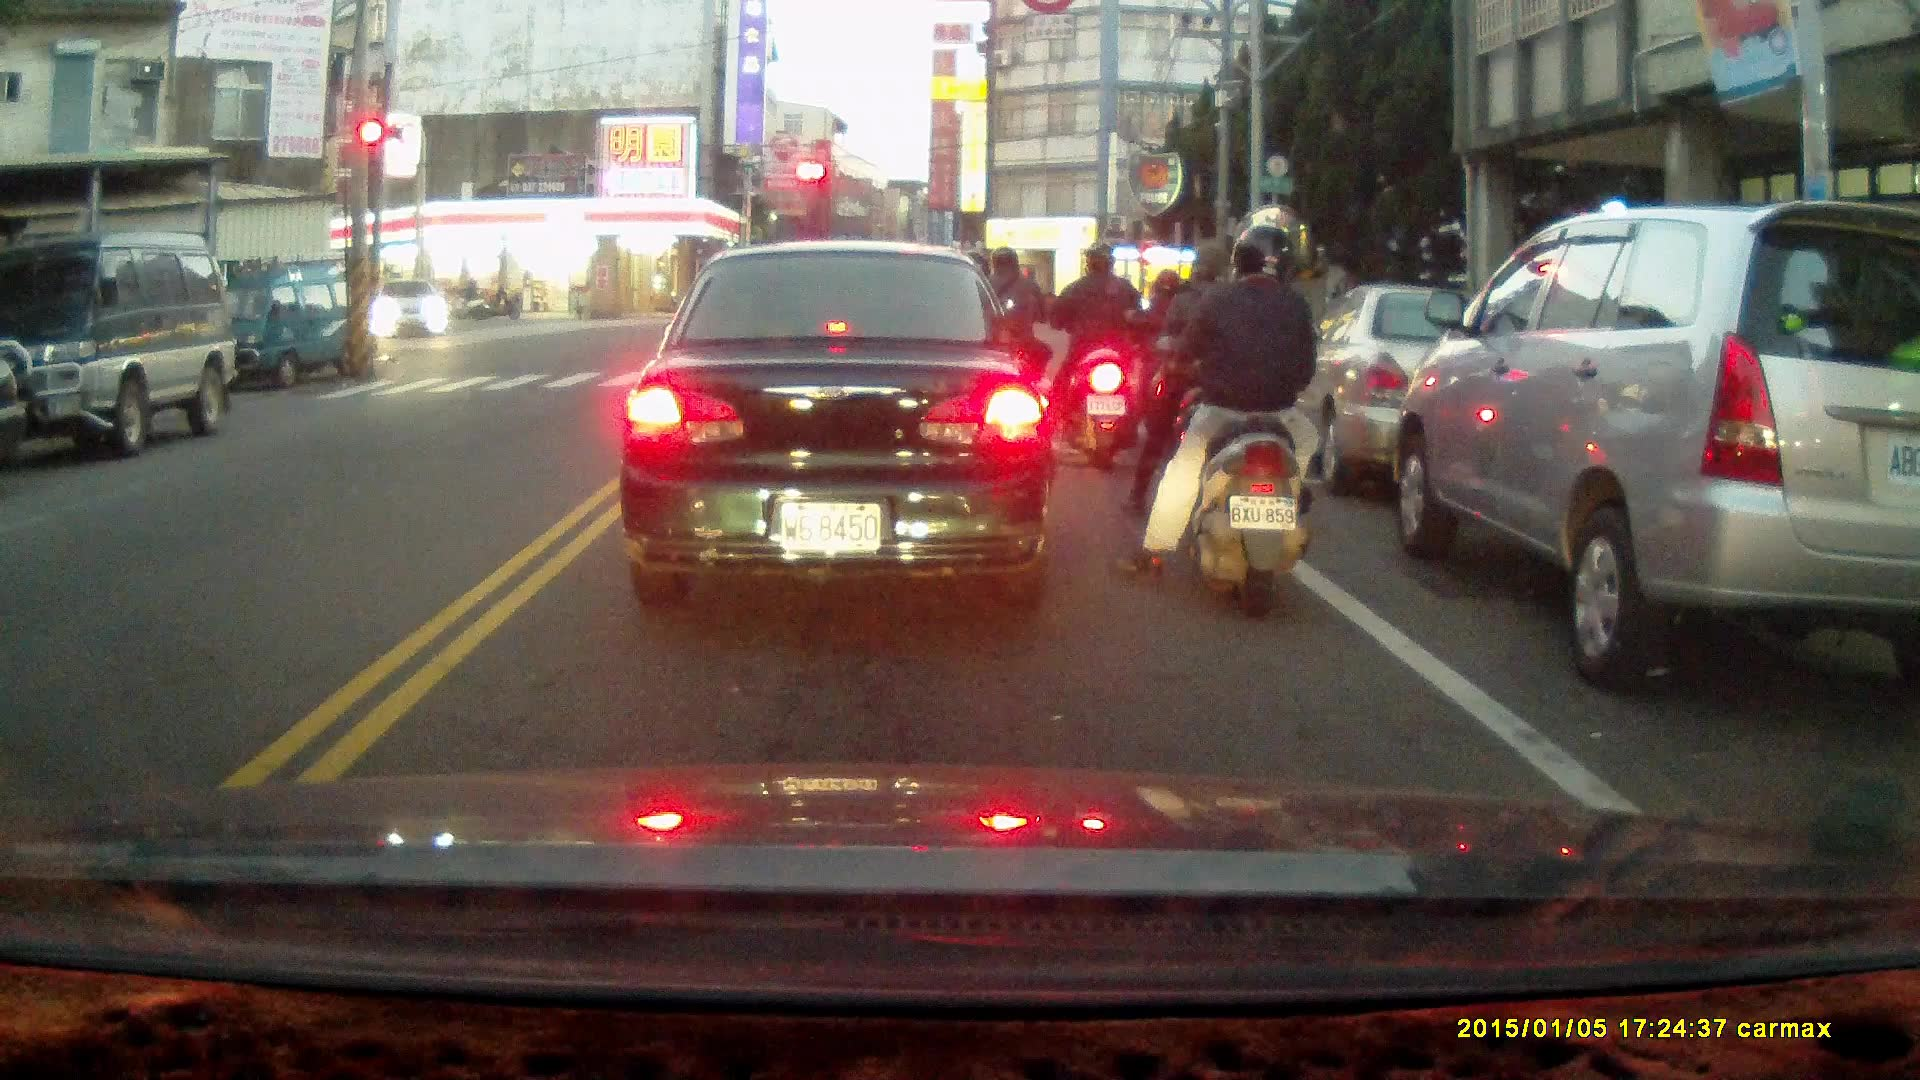rider: (1116, 225, 1316, 617), (1121, 240, 1258, 535), (1048, 243, 1142, 468), (966, 245, 1051, 440), (1132, 267, 1203, 449), (447, 275, 495, 320)
vehicle: (1391, 195, 1920, 685), (617, 243, 1061, 606), (1285, 284, 1582, 497), (1, 234, 239, 458), (194, 255, 381, 393), (372, 277, 451, 343)
